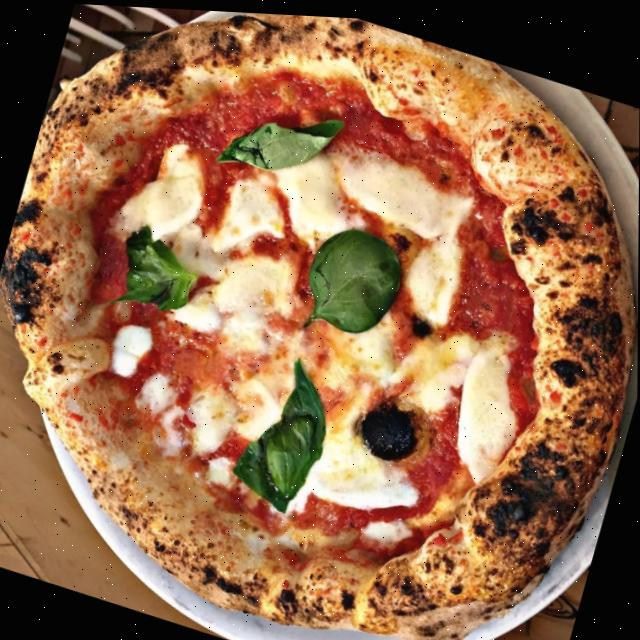basil: (223, 341, 350, 518), (286, 209, 414, 359), (207, 75, 349, 198), (106, 217, 212, 328)
pizza: (0, 0, 640, 640)
